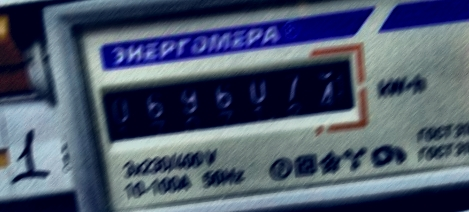0: (246, 73, 269, 105), (109, 94, 130, 124)
4: (316, 79, 336, 109)
6: (143, 89, 166, 119), (212, 80, 234, 111)
7: (282, 71, 303, 103)
9: (178, 85, 198, 115)
screen: (83, 36, 377, 161)
